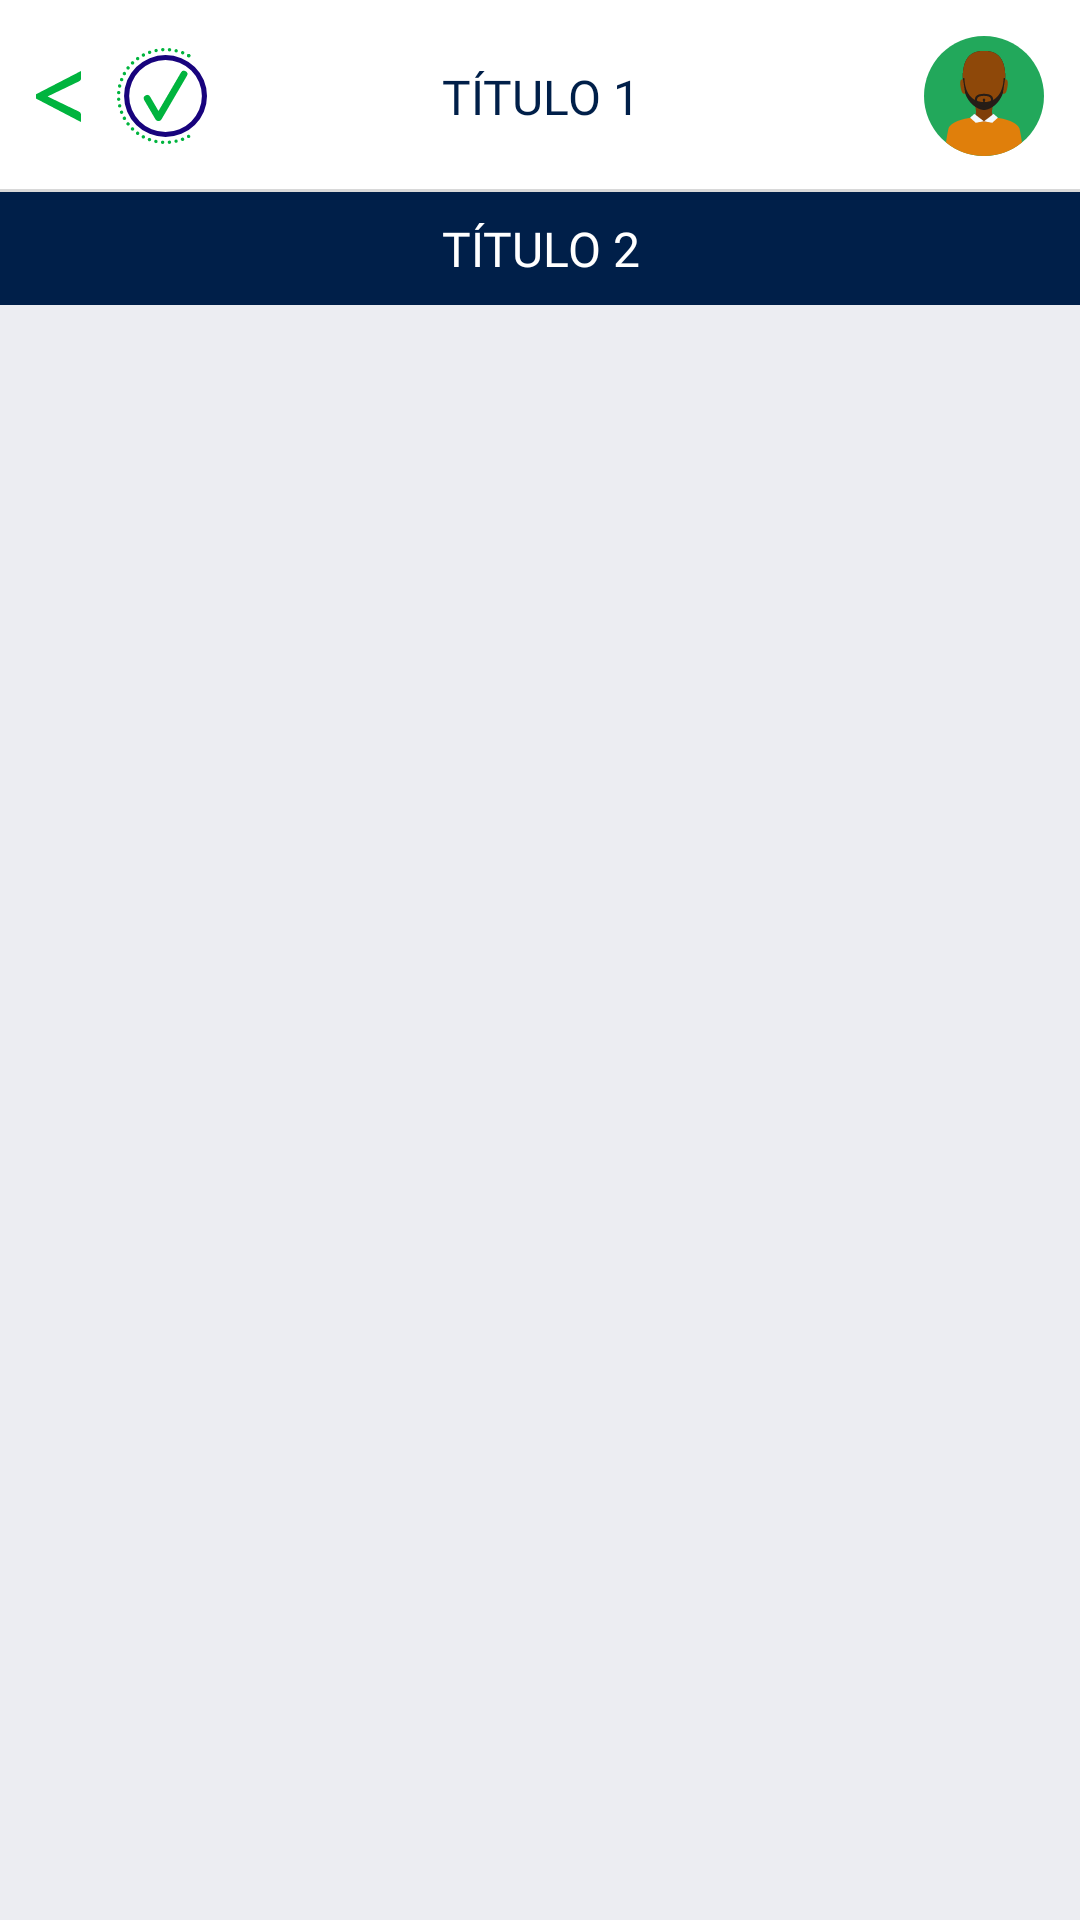

Locate icon controls on the screen. Image size 1080px x 1920px, boxes as [x1,y1,x2,y2].
back: [36,71,81,122]
